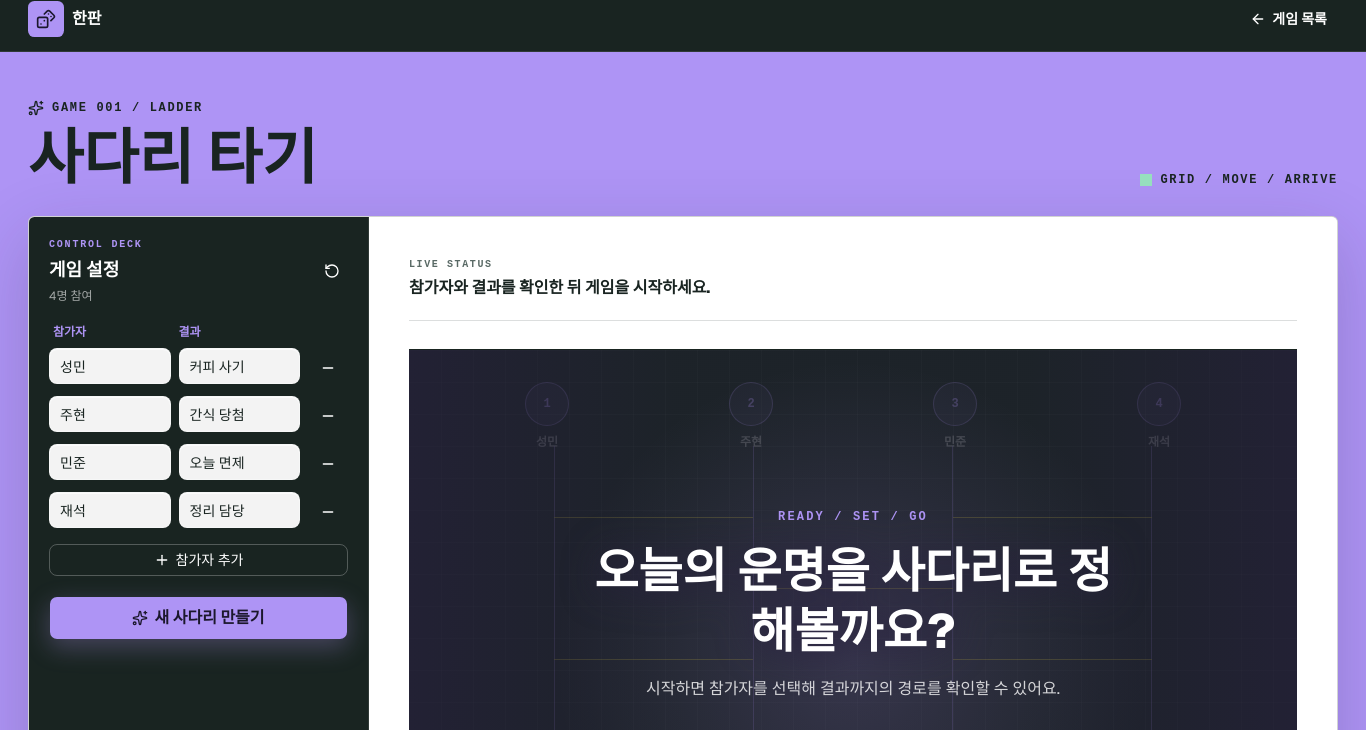
Test case: LadderGame › 빈 결과가 있으면 오류를 표시하고 시작 패널에 머문다
This screenshot has width=1366, height=730.
Clear the field with test id "ladder-result-input" at (239, 366), box [178,348,300,384]
(page scrolled)
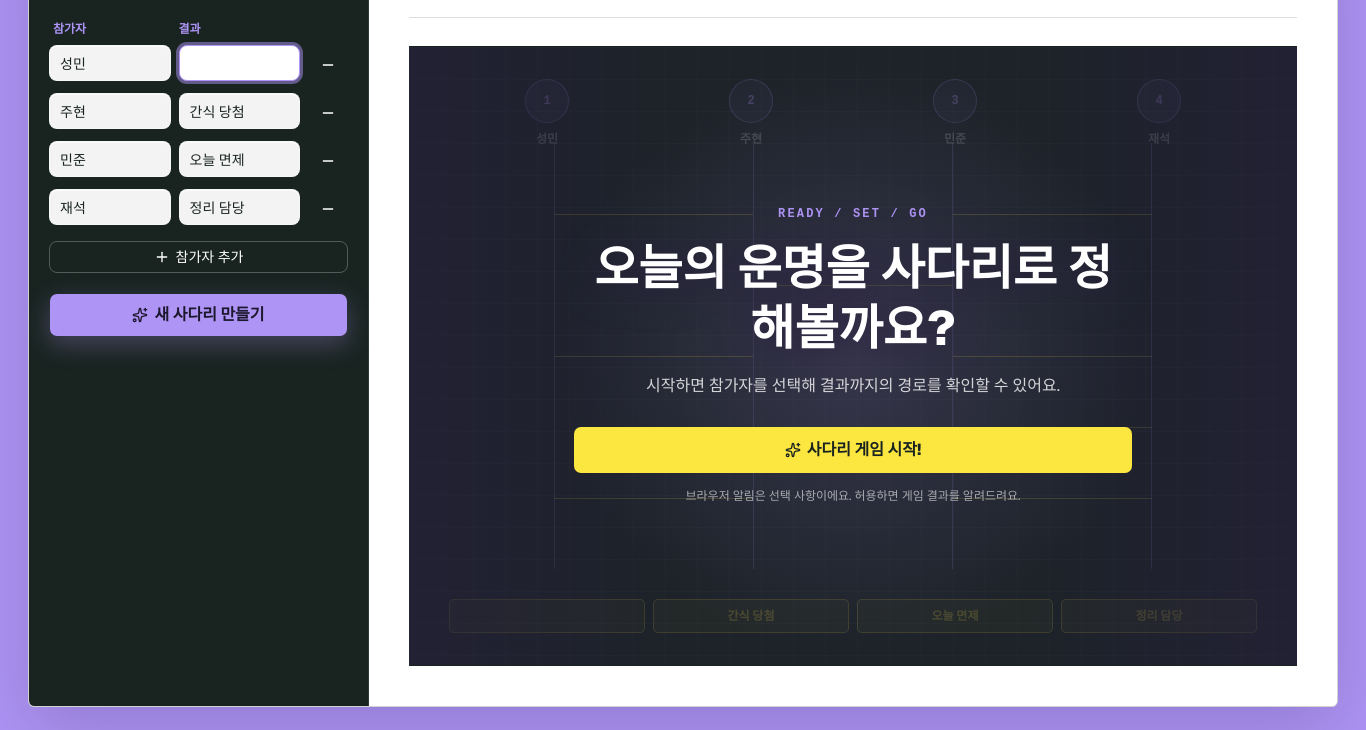
Click the button "사다리 게임 시작!" at (853, 450), box [573,426,1133,474]
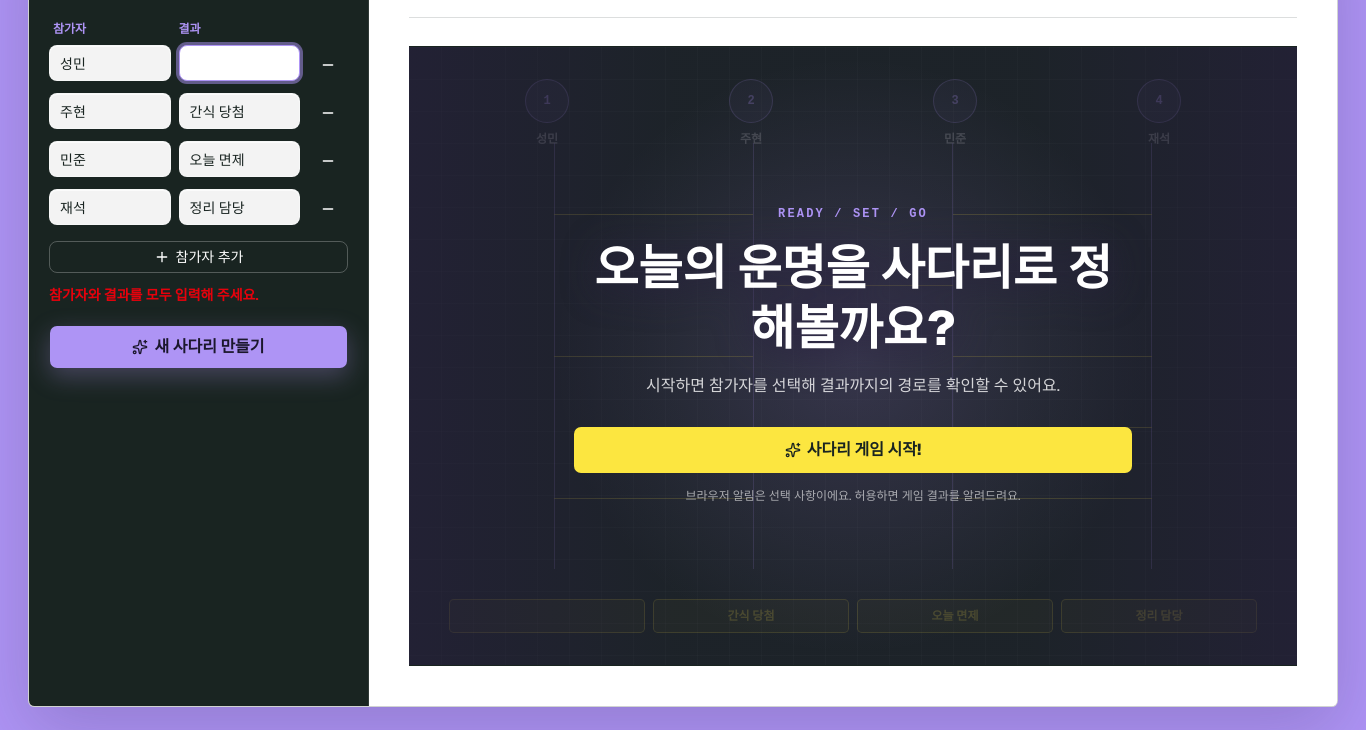
expect the element with test id "ladder-start-panel" is shown: met, box [409,46,1297,666]
expect the message reads "참가자와 결과를 모두 입력해 주세요.": met, box [49,286,259,304]
